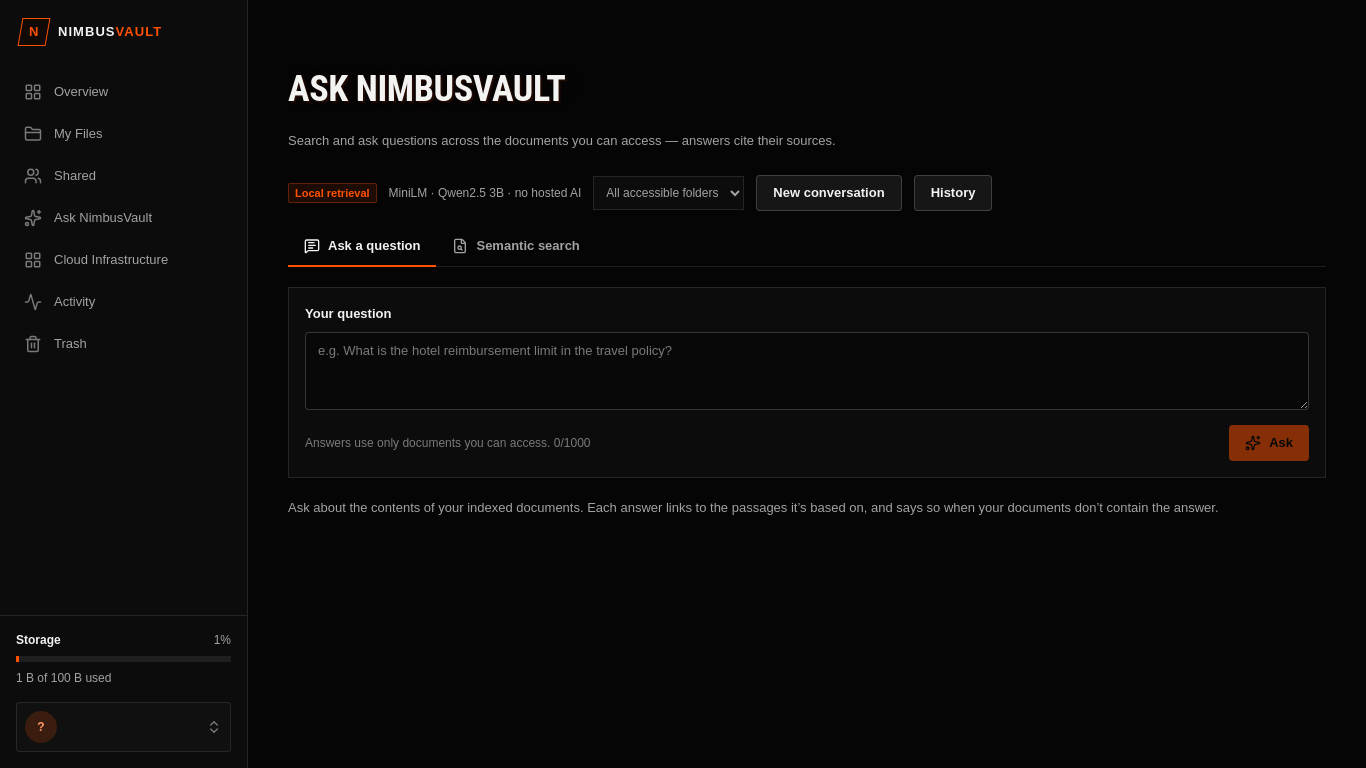
Test: AskPage › shows a grounded answer with clickable citations and sources
Replace the text in the text box labelled "Your question" with "What is the hotel cap?": (807, 371) [305,332,1309,410]
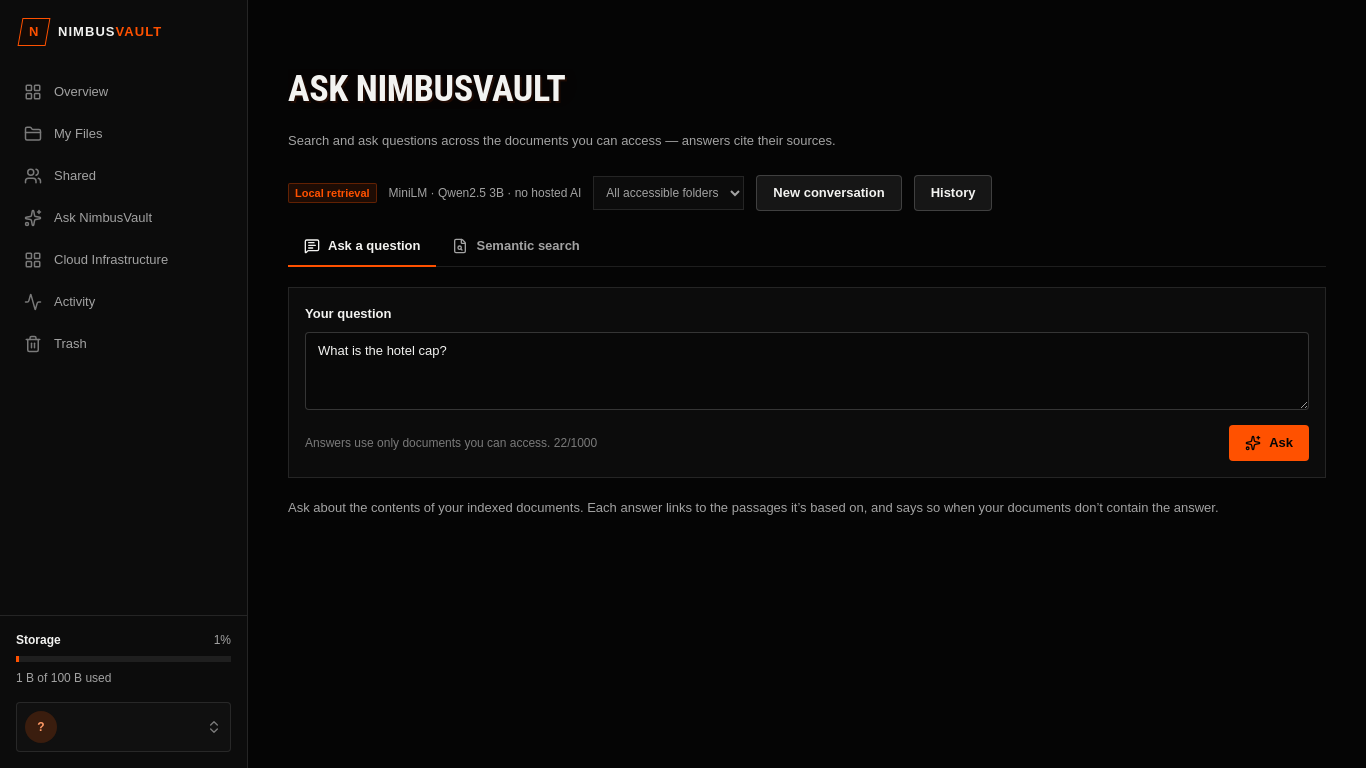
Click the button "Ask": (1269, 443) [1229,425,1309,461]
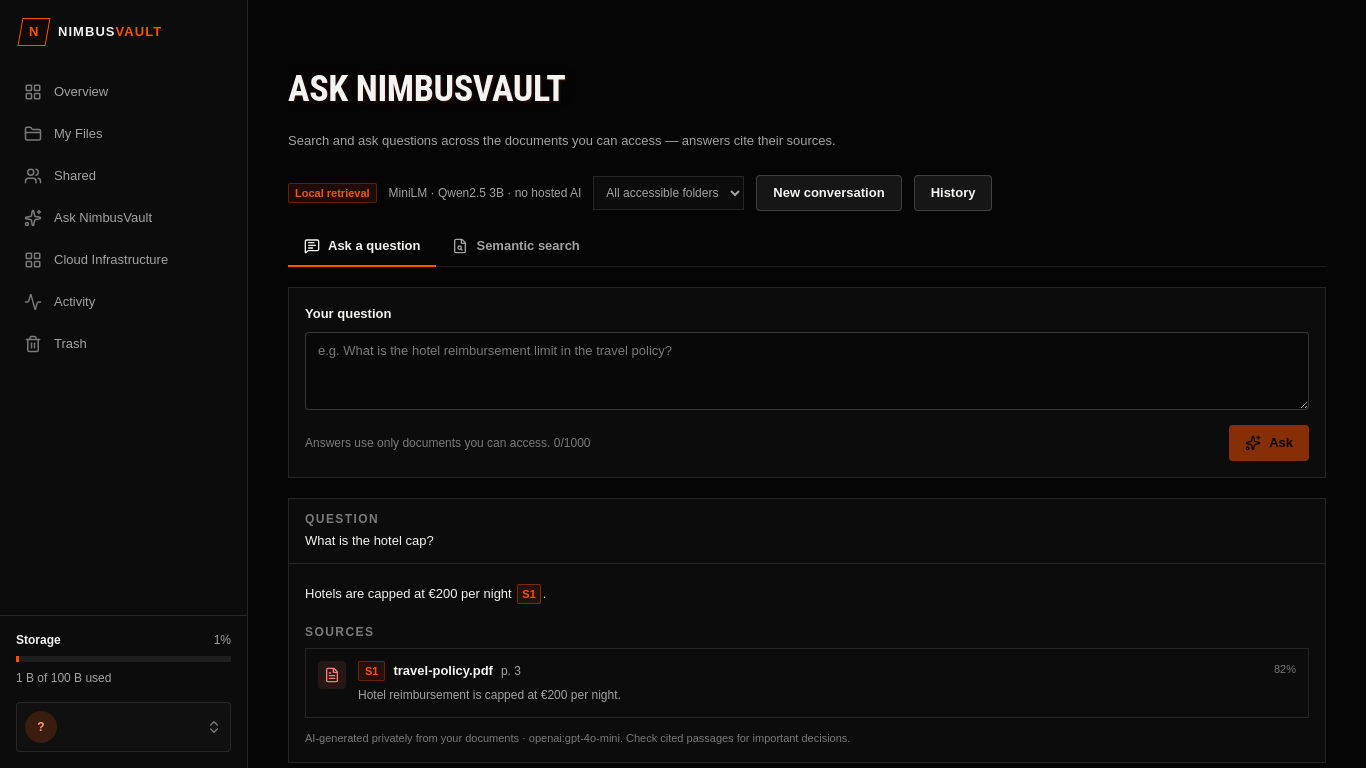
Check: the text "Hotels are capped at €200 per night" is shown, box [305,586,515,601]
Check: the button named "Source S1: travel-policy.pdf, p. 3" is shown, box [517,584,541,604]
Check: the heading "Sources" is shown, box [305,625,374,639]
